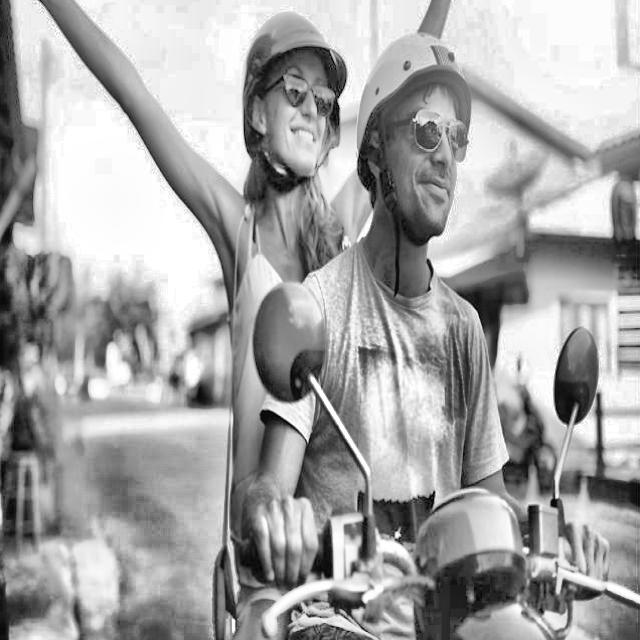Helmet: (352, 26, 476, 255), (239, 5, 349, 198)
